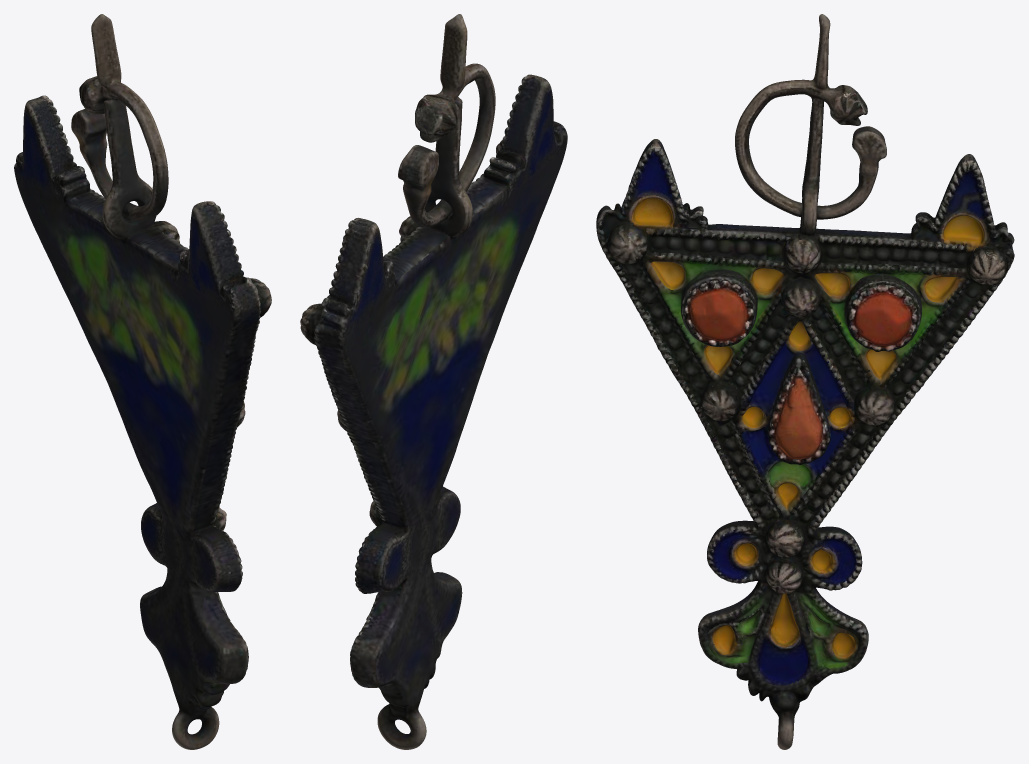
The model's file is fibule_3D_compressee.glb.
3 views of the same model, side by side, from view 1: azimuth 30°, elevation 25°; view 2: azimuth 150°, elevation 25°; view 3: azimuth 270°, elevation 25° (orthographic). The views are drawn at different scales.
Visible parts, largest first — view 1: tripo_part_0; view 2: tripo_part_0; view 3: tripo_part_0.
Part boxes in pixels (bbox=[...]): tripo_part_0: bbox=[14, 14, 271, 749]; tripo_part_0: bbox=[300, 14, 567, 749]; tripo_part_0: bbox=[596, 14, 1014, 749].
Size of the model in its own units: 0.1594 by 1 by 0.5425.
1 material, 1 textured.
